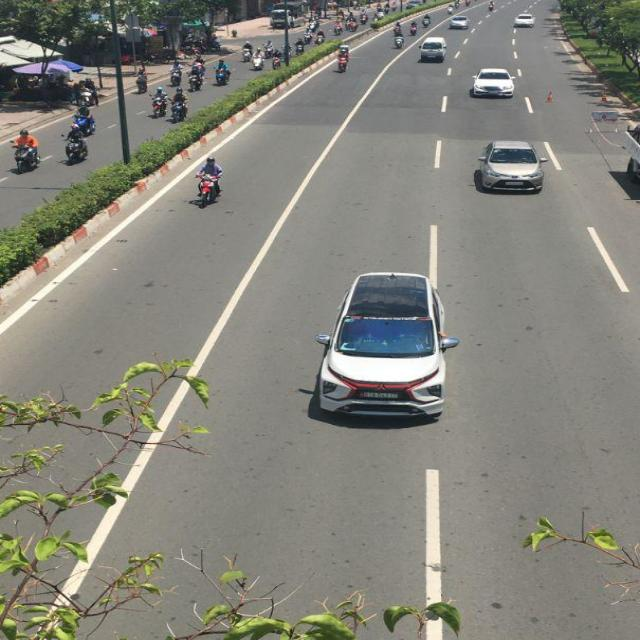car: (316, 272, 448, 420), (473, 142, 544, 194), (471, 69, 515, 99), (420, 39, 448, 64), (515, 14, 535, 29), (448, 16, 468, 30)
motorcycle: (192, 175, 225, 209), (63, 132, 87, 164), (12, 145, 39, 173), (189, 61, 206, 90), (134, 71, 148, 94), (216, 64, 232, 84), (189, 75, 206, 93)
